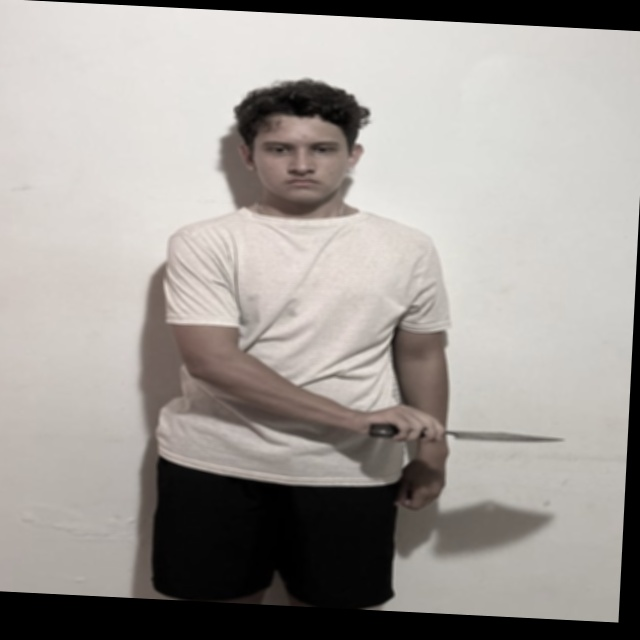Sharp-Object: (458, 428, 566, 445)
